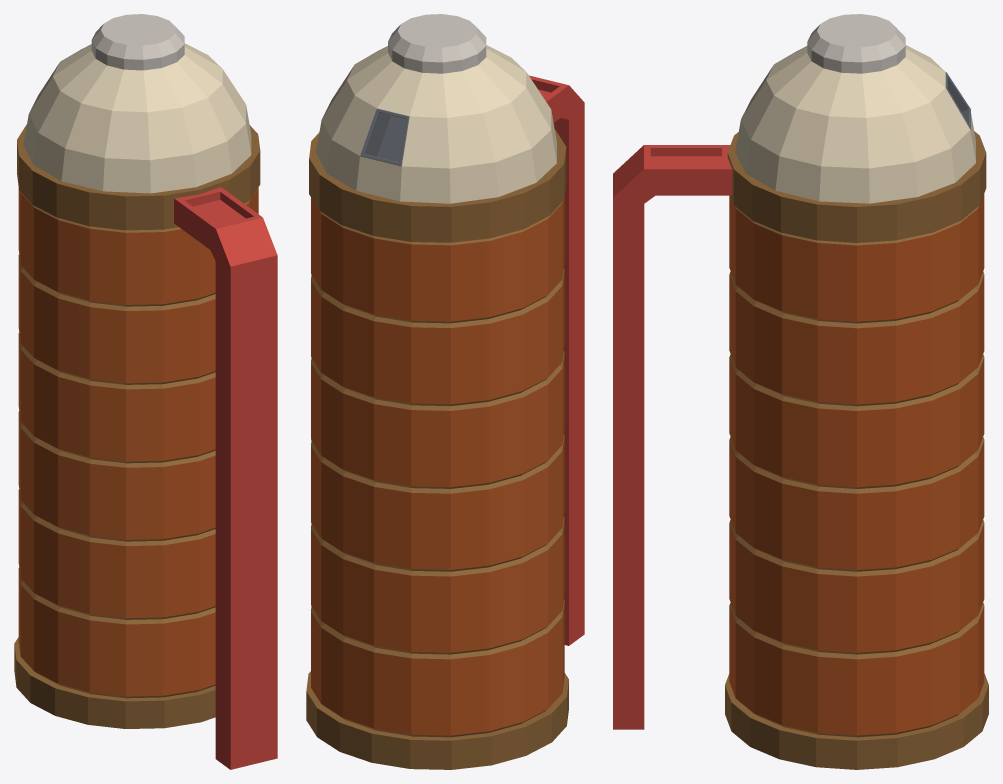
File: farmstructure_f.gltf
3 views of the same model, side by side, from view 1: azimuth 30°, elevation 25°; view 2: azimuth 150°, elevation 25°; view 3: azimuth 270°, elevation 25° (orthographic). The views are drawn at different scales.
Parts seen in each view (by area): view 1: farmstructure_f001, Line013; view 2: farmstructure_f001, Line013; view 3: farmstructure_f001, Line013.
Part boxes in pixels (<box>): farmstructure_f001: <box>14,14,260,728</box>; Line013: <box>174,187,277,769</box>; farmstructure_f001: <box>306,14,568,769</box>; Line013: <box>529,75,584,645</box>; farmstructure_f001: <box>725,14,988,769</box>; Line013: <box>613,145,732,729</box>.
Bounding box in the file's own units: 3.68 × 10.55 × 5.24.
1 material, 1 textured.
